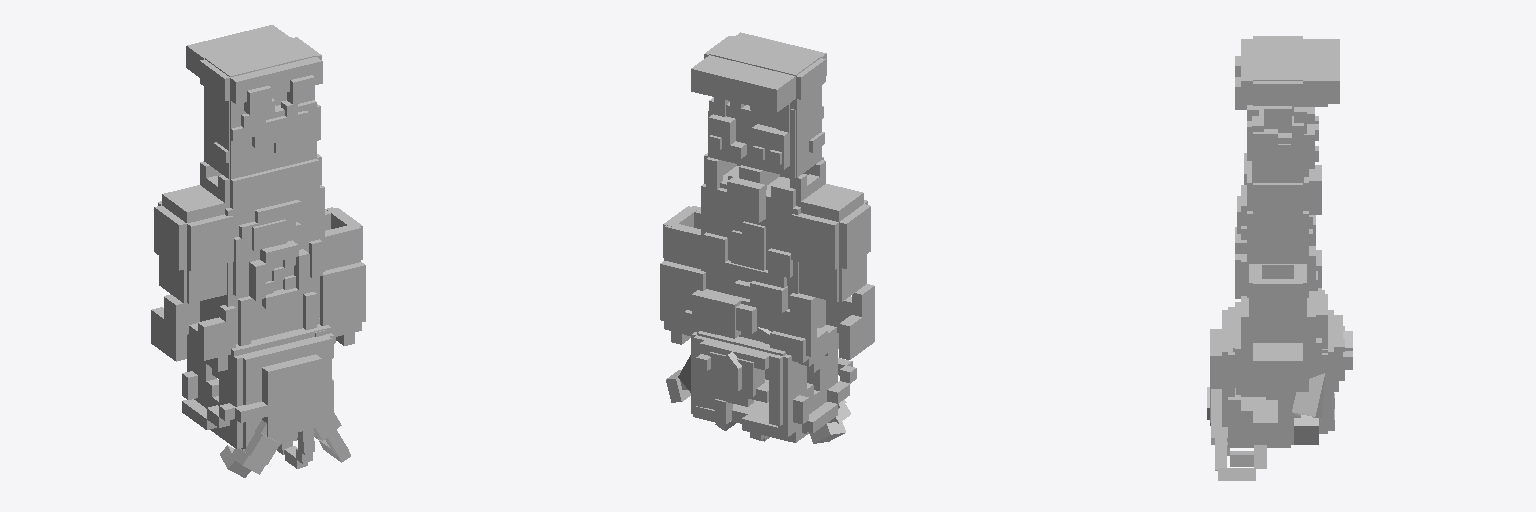
The model's file is x01_full_broken.obj.
The picture shows the model from 3 angles: view 1: azimuth 30°, elevation 25°; view 2: azimuth 150°, elevation 25°; view 3: azimuth 270°, elevation 25°; orthographic projection.
Parts seen in each view (by area): view 1: Head, Body, RightArm, RightLeg, LeftArm, RightBoot, LeftLeg, LeftBoot; view 2: Body, Head, RightArm, RightLeg, LeftArm, RightBoot, LeftLeg, LeftBoot; view 3: Head, Body, LeftArm, LeftLeg, LeftBoot, RightBoot.
Part boxes in pixels (x1,y1,x2,y2): Head: (182,333,350,477); Body: (187,185,335,371); RightArm: (151,185,235,361); RightLeg: (200,87,275,214); LeftArm: (318,207,365,345); RightBoot: (186,35,278,115); LeftLeg: (272,92,321,204); LeftBoot: (230,25,322,104); Body: (684,177,838,366); Head: (666,331,856,443); RightArm: (790,184,874,359); RightLeg: (750,85,825,207); LeftArm: (660,206,705,344); RightBoot: (734,43,826,111); LeftLeg: (704,97,779,189); LeftBoot: (691,32,782,101); Head: (1207,307,1352,480); Body: (1233,165,1327,376); LeftArm: (1241,264,1315,391); LeftLeg: (1247,105,1318,213); LeftBoot: (1235,59,1339,109); RightBoot: (1235,36,1339,76).
Size of the model in its own units: 17.31 by 35.24 by 11.7.